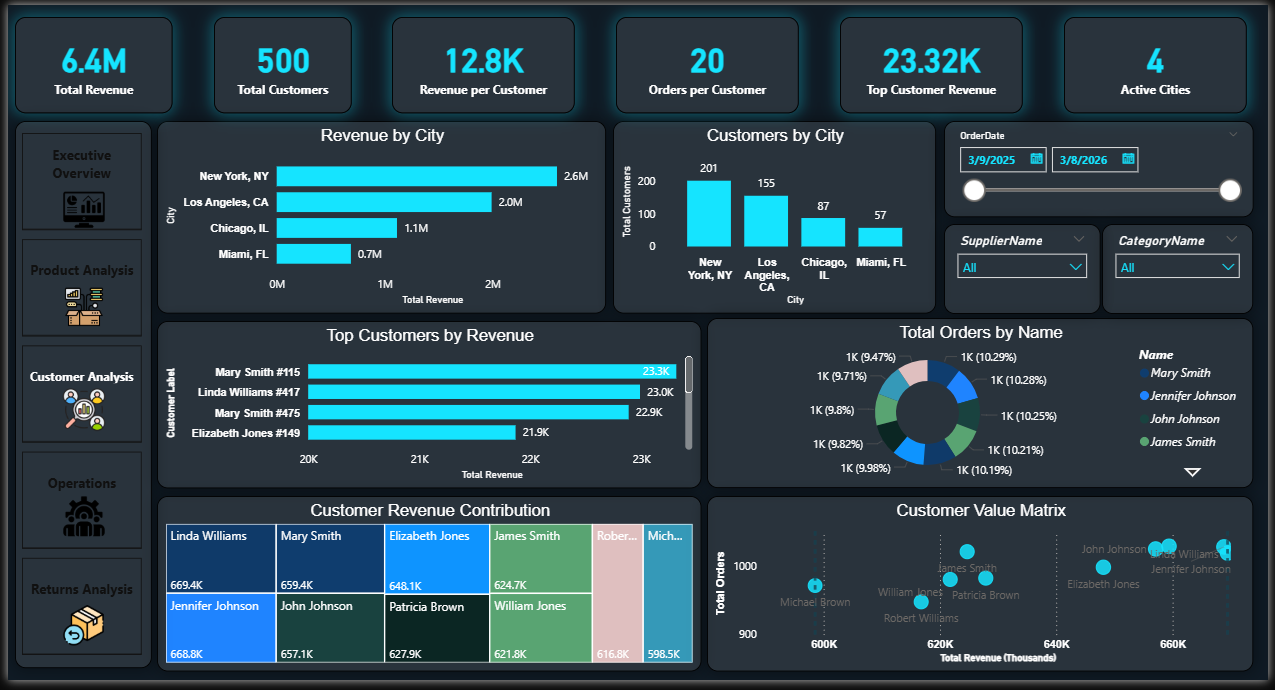

The page's visual inventory and layout, read from the dashboard file:
{"tool":"powerbi","page":{"name":" Customer Analysis","canvas":[1400,750],"ordinal":2},"visuals":[{"type":"clusteredBarChart","title":"Revenue by City","fields":{"Y":["Categories.Total Revenue"],"Category":["Customers.City"]},"box":[165,129,499,214],"z":0},{"type":"clusteredColumnChart","title":"Customers by City","fields":{"Category":["Customers.City"],"Y":["Customers.Total Customers"]},"box":[672.2,128.9,358.9,214.4],"z":1000},{"type":"clusteredBarChart","title":"Top Customers by Revenue","fields":{"Y":["Categories.Total Revenue"],"Category":["Customers.Customer Label"]},"box":[165,351,605,186],"z":2000},{"type":"donutChart","fields":{"Category":["Customers.Name"],"Y":["Categories.Total Orders"]},"box":[777,348,607,189],"z":3000},{"type":"treemap","title":"Customer Revenue Contribution","fields":{"Group":["Customers.Name"],"Values":["Categories.Total Revenue"]},"box":[165,545,605,195],"z":4000},{"type":"scatterChart","title":"Customer Value Matrix","fields":{"X":["Categories.Total Revenue"],"Y":["Categories.Total Orders"],"Size":["Categories.Total Revenue"],"Category":["Customers.Name"]},"box":[777,545,607,195],"z":5000},{"type":"card","fields":{"Values":["Categories.Total Revenue"]},"box":[8,13,175,107],"z":6000},{"type":"card","fields":{"Values":["Customers.Total Customers"]},"box":[228.6,13,153,107],"z":7000},{"type":"card","fields":{"Values":["Customers.Revenue per Customer"]},"box":[427.2,13,203,107],"z":8000},{"type":"card","fields":{"Values":["Customers.Orders per Customer"]},"box":[675.8,13,203,107],"z":9000},{"type":"card","fields":{"Values":["Customers.Top Customer Revenue"]},"box":[924.4,13,203,107],"z":10000},{"type":"card","fields":{"Values":["Customers.Active Cities"]},"box":[1173,13,203,107],"z":11000},{"type":"group","id":"g1","title":"Group 1","box":[8,129,152,608],"z":12000},{"type":"image","box":[24,204,119,46],"z":13000},{"type":"shape","box":[8,129,152,608],"z":14000,"group":"g1"},{"type":"image","box":[24,313,119,44],"z":14000},{"type":"image","box":[24,426,119,48],"z":15000},{"type":"image","box":[24,545,119,46],"z":16000},{"type":"image","box":[24,667,119,45],"z":17000},{"type":"slicer","fields":{"Values":["Orders.OrderDate"]},"box":[1040,129,344,107],"z":18000},{"type":"slicer","fields":{"Values":["Categories.CategoryName"]},"box":[1216,243,168,100],"z":19000},{"type":"slicer","fields":{"Values":["Suppliers.SupplierName"]},"box":[1040,243,174,100],"z":20000},{"type":"pageNavigator","box":[16,142.5,133,581],"z":21000,"group":"g1"}]}

Visuals, with their boxes in screenshot pixels (x1, y1, x2, y2), scaled from the page's 1400x750 canvas onto the 1275x690 screenshot:
"Revenue by City" clusteredBarChart: x1=150, y1=119, x2=605, y2=316
"Customers by City" clusteredColumnChart: x1=612, y1=119, x2=939, y2=316
"Top Customers by Revenue" clusteredBarChart: x1=150, y1=323, x2=701, y2=494
donutChart - Customers.Name x Categories.Total Orders: x1=708, y1=320, x2=1260, y2=494
"Customer Revenue Contribution" treemap: x1=150, y1=501, x2=701, y2=681
"Customer Value Matrix" scatterChart: x1=708, y1=501, x2=1260, y2=681
card - Categories.Total Revenue: x1=7, y1=12, x2=167, y2=110
card - Customers.Total Customers: x1=208, y1=12, x2=348, y2=110
card - Customers.Revenue per Customer: x1=389, y1=12, x2=574, y2=110
card - Customers.Orders per Customer: x1=615, y1=12, x2=800, y2=110
card - Customers.Top Customer Revenue: x1=842, y1=12, x2=1027, y2=110
card - Customers.Active Cities: x1=1068, y1=12, x2=1253, y2=110
"Group 1" group: x1=7, y1=119, x2=146, y2=678
image: x1=22, y1=188, x2=130, y2=230
shape: x1=7, y1=119, x2=146, y2=678
image: x1=22, y1=288, x2=130, y2=328
image: x1=22, y1=392, x2=130, y2=436
image: x1=22, y1=501, x2=130, y2=544
image: x1=22, y1=614, x2=130, y2=655
slicer - Orders.OrderDate: x1=947, y1=119, x2=1260, y2=217
slicer - Categories.CategoryName: x1=1107, y1=224, x2=1260, y2=316
slicer - Suppliers.SupplierName: x1=947, y1=224, x2=1106, y2=316
pageNavigator: x1=15, y1=131, x2=136, y2=666
